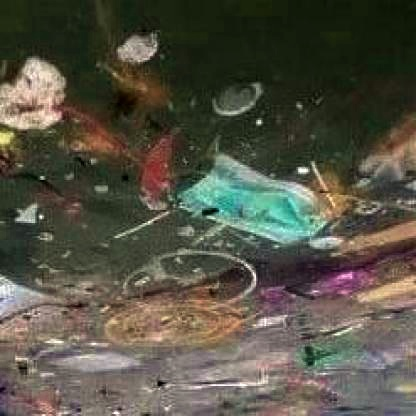Mask: (170, 154, 335, 251)
